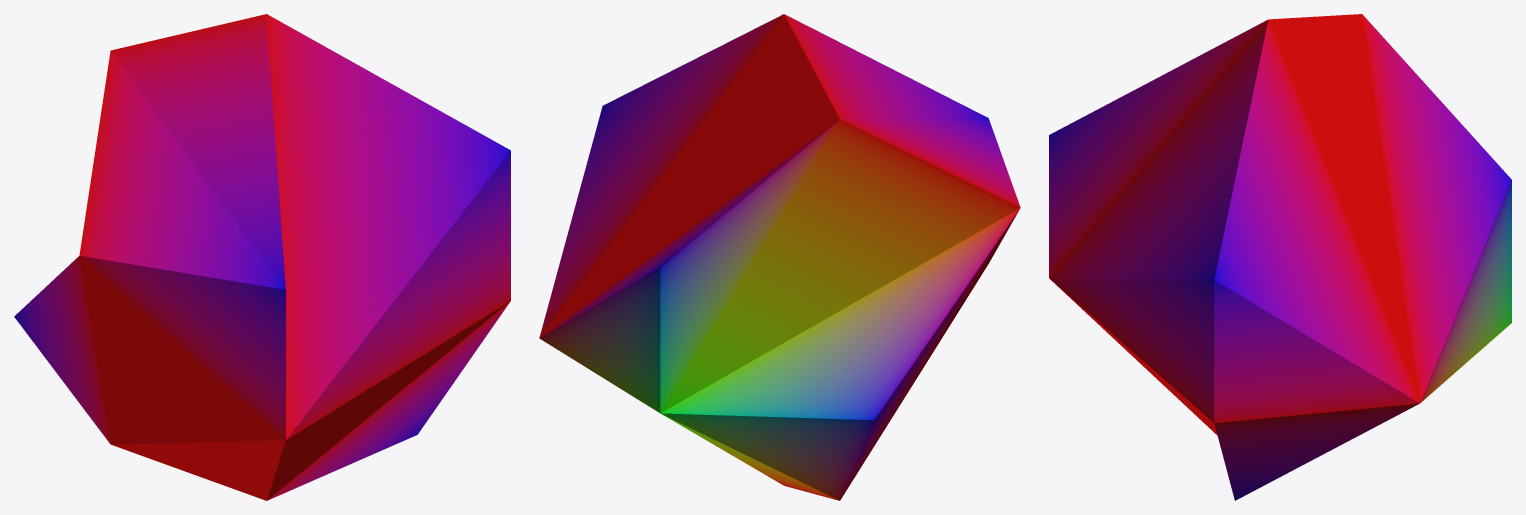
3 renders of one model, left to right at view 1: azimuth 30°, elevation 25°; view 2: azimuth 150°, elevation 25°; view 3: azimuth 270°, elevation 25°, orthographic. The views are drawn at different scales.
Bounding box in the file's own units: 1.85 × 2 × 1.81.
